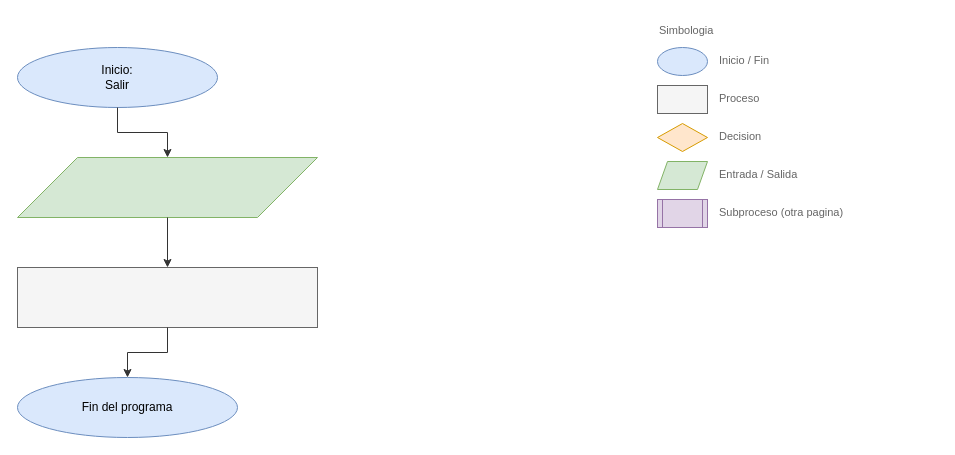
The diagram is 955 pixels wide and 455 high, and some of its shapes have lost their labels. Here are the shapes that lost their labels. From the top down, the centre of each, then its label:
At point (167, 187): "Mostrar: '¡Hasta luego!'".
At point (167, 297): "Terminar el bucle principal (break)".
